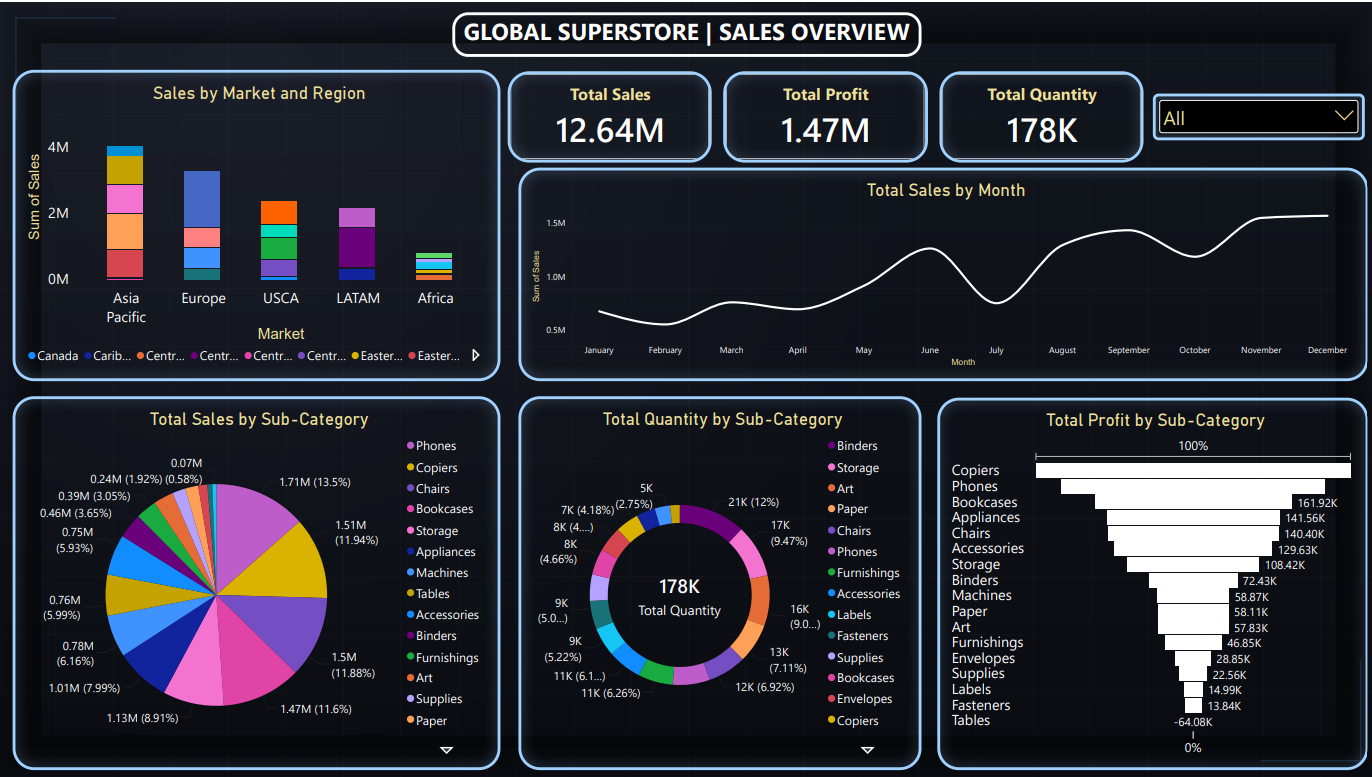

What the dashboard file says about the page in this screenshot:
{"tool":"powerbi","page":{"name":"Page 1","canvas":[1920,1080],"ordinal":0},"visuals":[{"type":"textbox","box":[631.6,14.5,653.3,61.5],"z":0},{"type":"columnChart","title":"Sales by Market and Region","fields":{"Category":["Orders.Market"],"Y":["Sum(Orders.Sales)"],"Series":["Orders.Region"]},"box":[19.9,94.1,678.6,432.5],"z":1000},{"type":"pieChart","title":"Total Sales by Sub-Category","fields":{"Category":["Orders.Sub-Category"],"Y":["Sum(Orders.Sales)"]},"box":[19.9,548.3,678.6,519.4],"z":2000},{"type":"donutChart","title":"Total Quantity by Sub-Category","fields":{"Y":["Sum(Orders.Quantity)"],"Category":["Orders.Sub-Category"]},"box":[723.9,548.3,561,519.4],"z":3000},{"type":"funnel","title":"Total Profit by Sub-Category","fields":{"Y":["Sum(Orders.Profit)"],"Category":["Orders.Sub-Category"]},"box":[1306.6,550.1,600.8,517.6],"z":4000},{"type":"lineChart","title":"Total Sales by Month","fields":{"Y":["Sum(Orders.Sales)"],"Category":["Orders.Order Date.Variation.Date Hierarchy.Year","Orders.Order Date.Variation.Date Hierarchy.Quarter","Orders.Order Date.Variation.Date Hierarchy.Month","Orders.Order Date.Variation.Date Hierarchy.Day"]},"box":[723.9,229.8,1183.5,296.8],"z":5000},{"type":"cardVisual","fields":{"Data":["Sum(Orders.Sales)"]},"box":[709.4,95.9,284.3,126.7],"z":6000,"group":"g1"},{"type":"cardVisual","fields":{"Data":["Sum(Orders.Profit)"]},"box":[1009.7,95.9,284.3,126.7],"z":7000,"group":"g1"},{"type":"cardVisual","fields":{"Data":["Sum(Orders.Quantity)"]},"box":[1310,95.9,284.3,126.7],"z":8000,"group":"g1"},{"type":"group","id":"g1","title":"Group 1","box":[709.4,95.9,884.9,126.7],"z":8001},{"type":"slicer","fields":{"Values":["Orders.Order Date.Variation.Date Hierarchy.Year"]},"box":[1607,126.7,295,65.1],"z":8002}]}

Visuals, with their boxes in screenshot pixels (x1, y1, x2, y2), scaled from the page's 1920x1080 canvas onto the 1372x777 screenshot:
textbox: Rect(451, 10, 918, 55)
"Sales by Market and Region" columnChart: Rect(14, 68, 499, 379)
"Total Sales by Sub-Category" pieChart: Rect(14, 394, 499, 768)
"Total Quantity by Sub-Category" donutChart: Rect(517, 394, 918, 768)
"Total Profit by Sub-Category" funnel: Rect(934, 396, 1363, 768)
"Total Sales by Month" lineChart: Rect(517, 165, 1363, 379)
cardVisual - Sum(Orders.Sales): Rect(507, 69, 710, 160)
cardVisual - Sum(Orders.Profit): Rect(722, 69, 925, 160)
cardVisual - Sum(Orders.Quantity): Rect(936, 69, 1139, 160)
"Group 1" group: Rect(507, 69, 1139, 160)
slicer - Orders.Order Date.Variation.Date Hierarchy.Year: Rect(1148, 91, 1359, 138)
